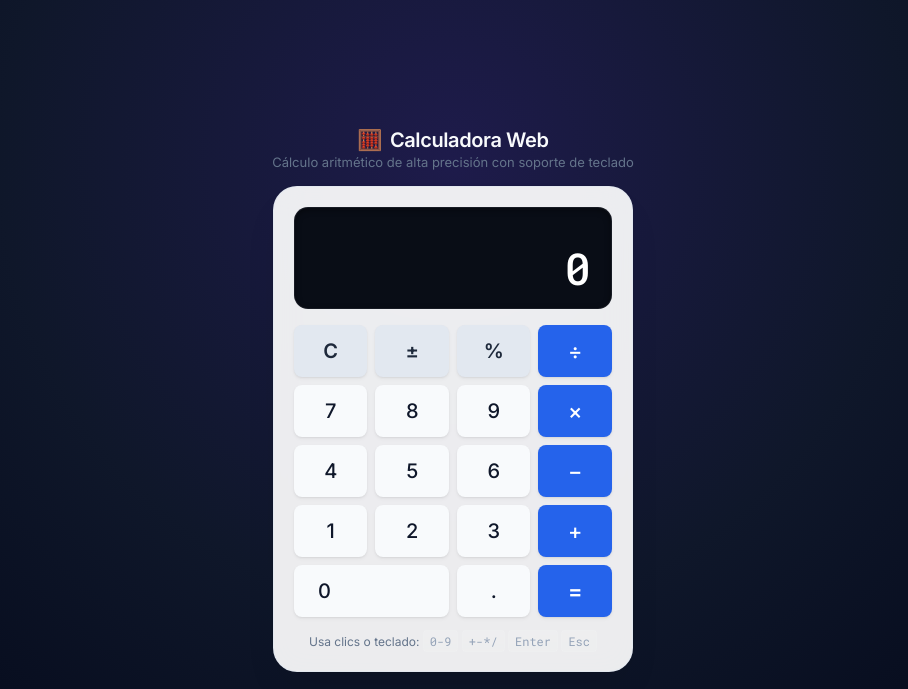
Test case: Calculadora UI & Accessibility (FR2, NFR3, WCAG 2.1 AA) › performs calculations via UI button clicks (5 + 3 = 8)
This screenshot has width=908, height=689.
Click the button "5" at point(412, 471), box [376,445,449,497]
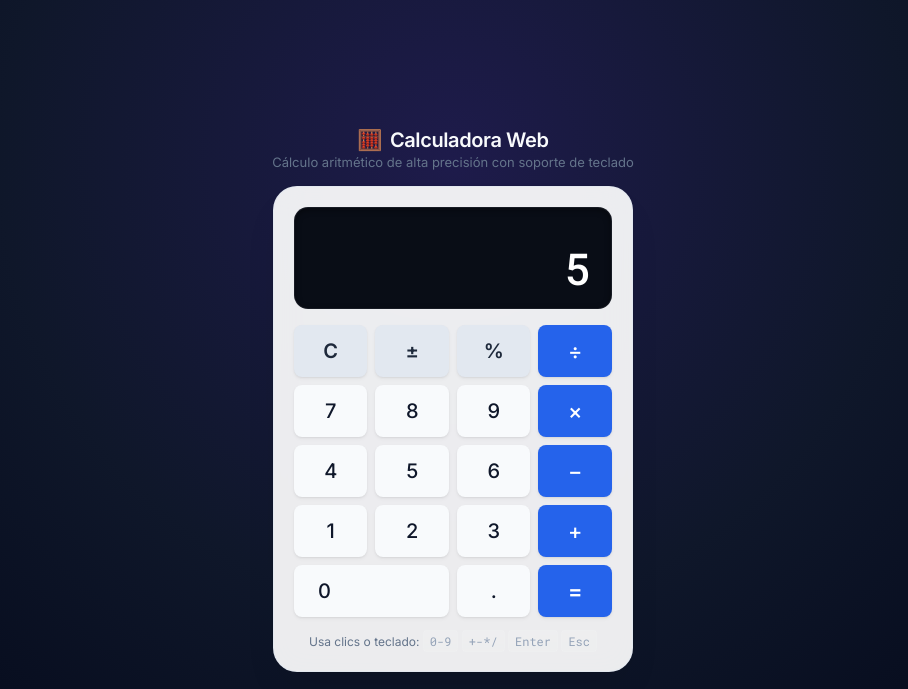
Click the button named "sumar" at point(575, 531), box [538,505,612,557]
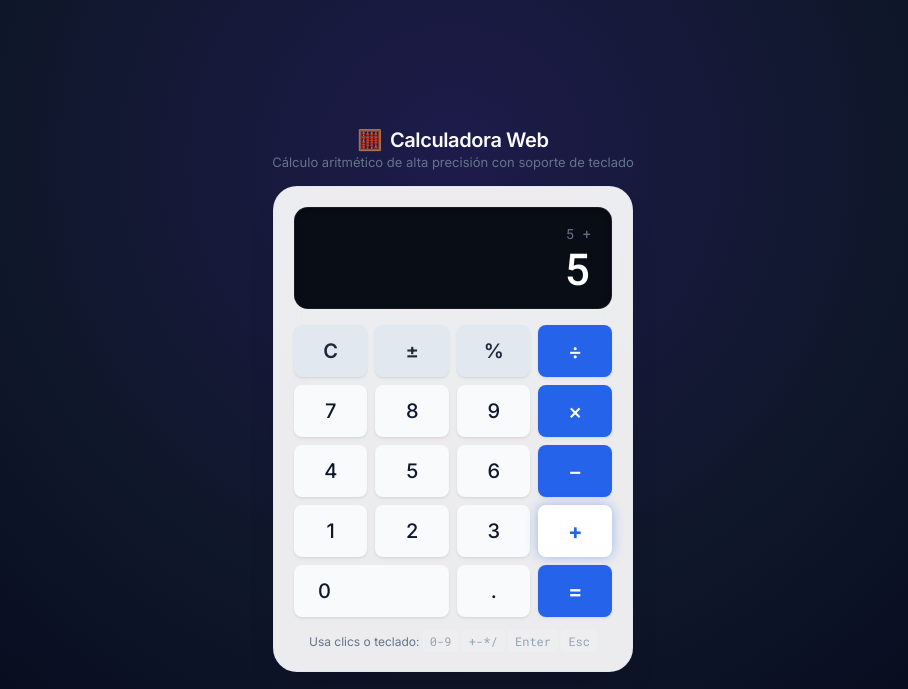
Click the button "3" at point(494, 531), box [457,505,530,557]
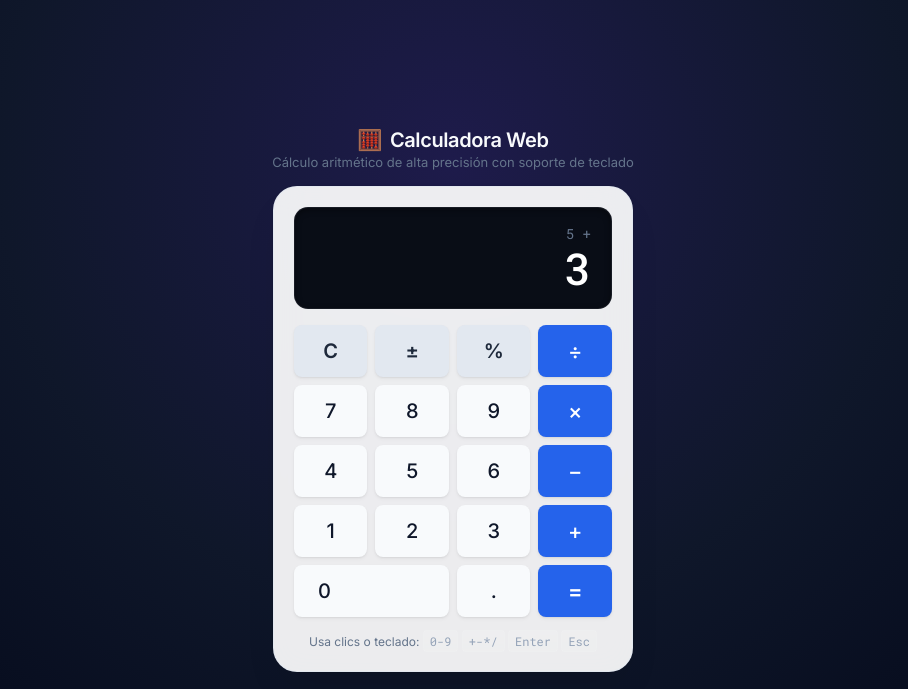
Click the button named "igual" at point(575, 591), box [538,565,612,617]
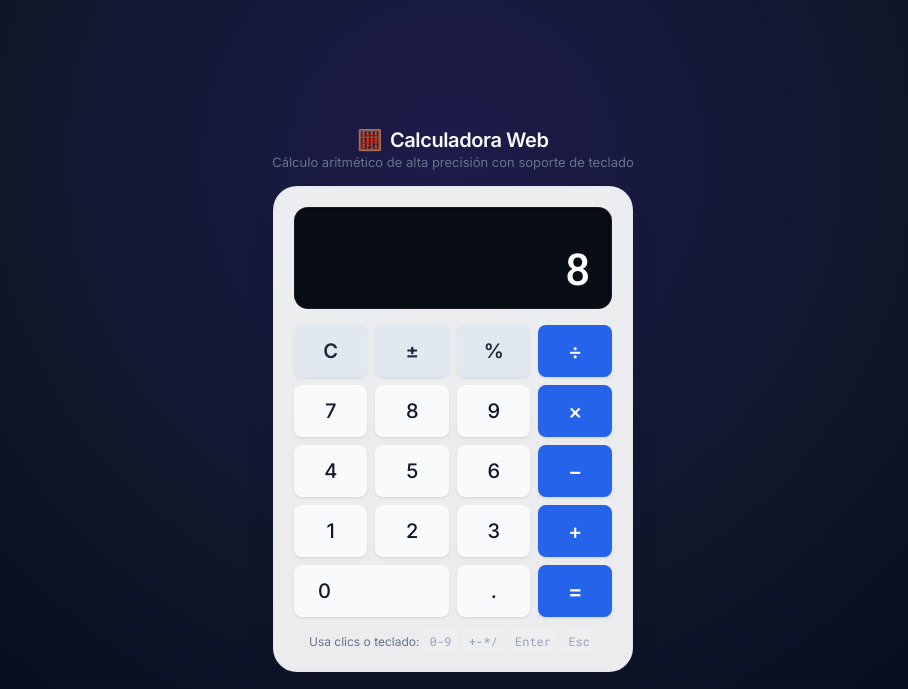
Expected: the text with test id "calculator-display" reads "8", [565,239,591,297]
